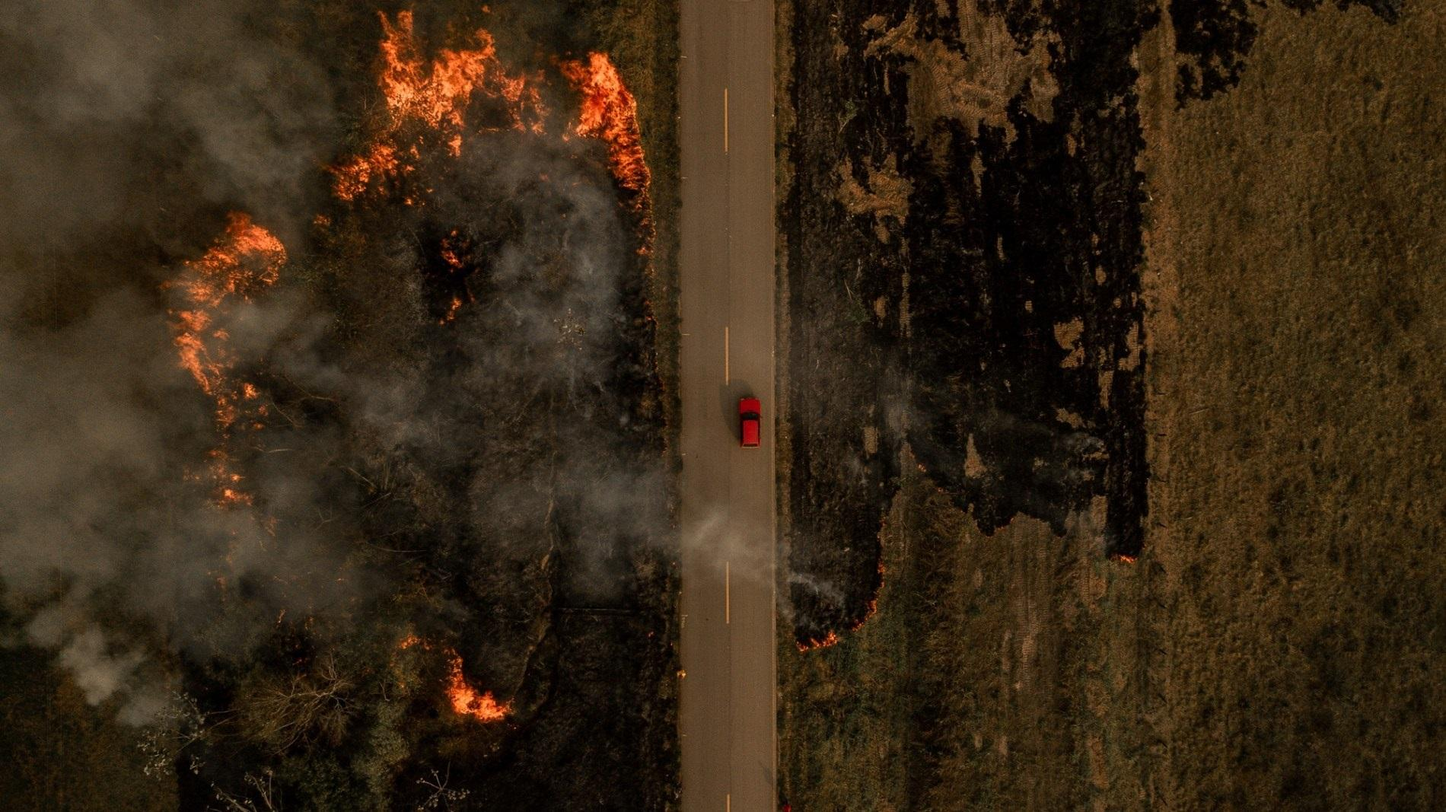fire: (341, 14, 658, 224), (157, 207, 288, 502), (400, 636, 469, 685), (856, 565, 886, 632), (432, 293, 466, 324), (795, 631, 842, 651), (435, 240, 463, 270), (1119, 551, 1139, 564)
